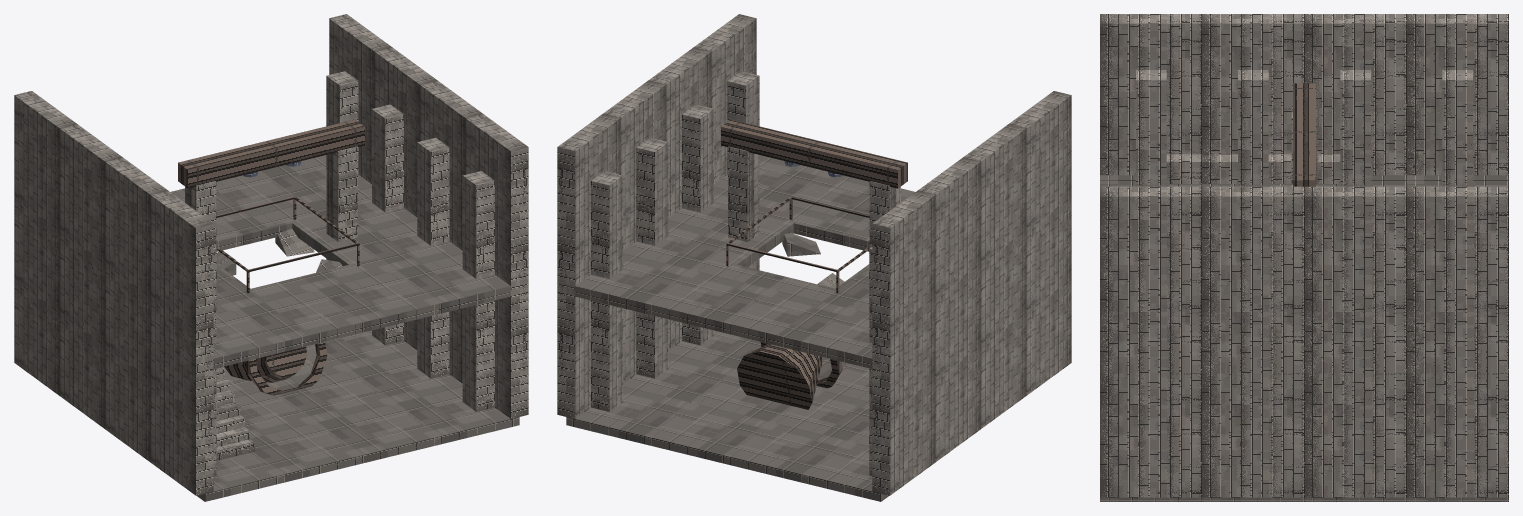
Rendered from lm_bell_breach.glb.
3 renders of one model, left to right at view 1: azimuth 30°, elevation 25°; view 2: azimuth 150°, elevation 25°; view 3: azimuth 270°, elevation 25°, orthographic. The views are drawn at different scales.
Parts seen in each view (by area): view 1: lm_bell_breach; view 2: lm_bell_breach; view 3: lm_bell_breach.
Part boxes in pixels (left/top/right/bottom): lm_bell_breach: left=14, top=14, right=528, bottom=501; lm_bell_breach: left=557, top=14, right=1071, bottom=501; lm_bell_breach: left=1100, top=14, right=1508, bottom=501.
Size of the model in its own units: 16.9 by 13.86 by 16.
35 materials, 35 textured.
